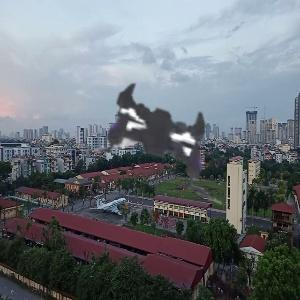drone: (21, 8, 292, 279)
